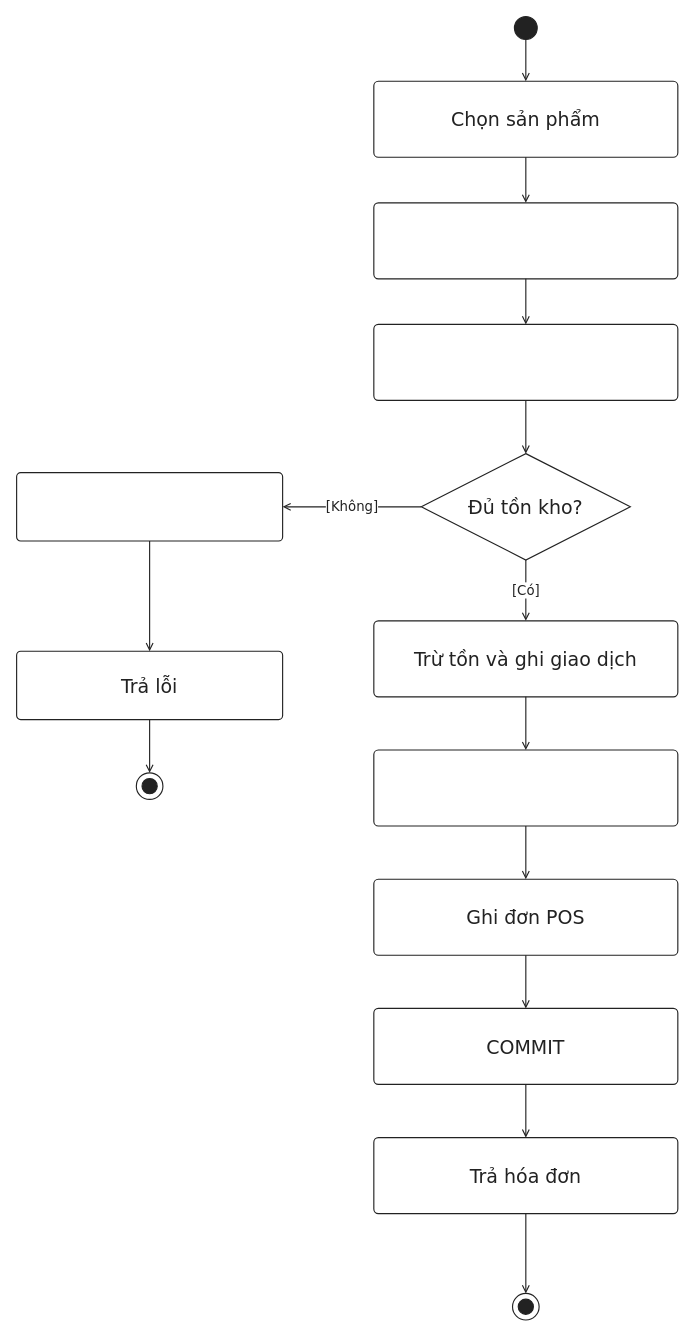
This 695x1338 diagram has some shape labels left out. The shapes that lost their labels are listed below. From the top down, each one's centre as x and y in pixels, then its label:
At (x=525, y=240): "Kiểm tra quyền cửa hàng".
At (x=525, y=362): "Khóa tồn kho cửa hàng".
At (x=149, y=506): "ROLLBACK".
At (x=525, y=787): "Kiểm tra thanh toán".
